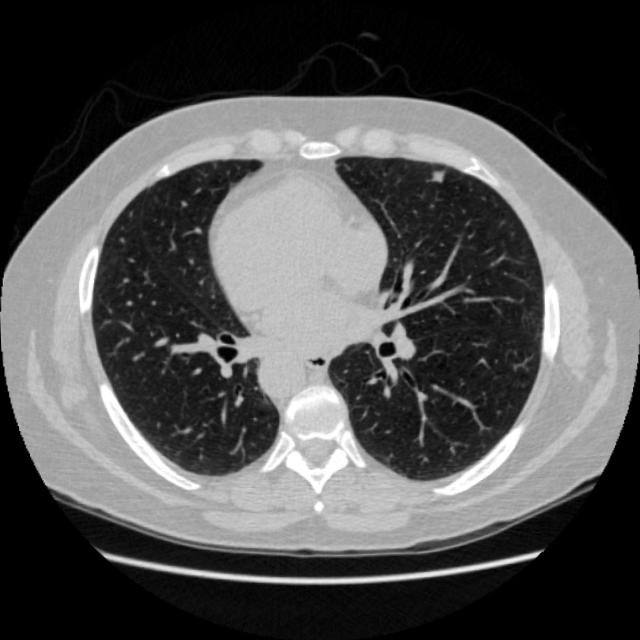nodule: (427, 162, 453, 188)
